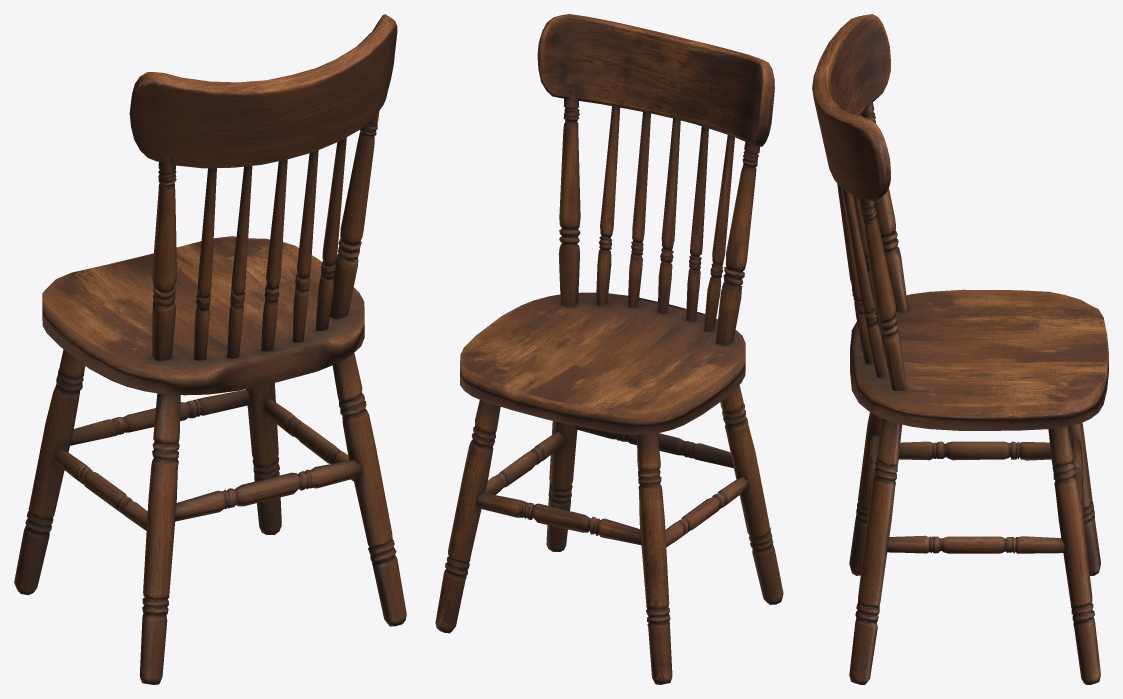
File: furniture-dining-chair.glb
3 renders of one model, left to right at view 1: azimuth 30°, elevation 25°; view 2: azimuth 150°, elevation 25°; view 3: azimuth 270°, elevation 25°, orthographic. The views are drawn at different scales.
Parts seen in each view (by area): view 1: tripo_node_cee32bd5-f05c-4bf8-a84e-17e49990cf35; view 2: tripo_node_cee32bd5-f05c-4bf8-a84e-17e49990cf35; view 3: tripo_node_cee32bd5-f05c-4bf8-a84e-17e49990cf35.
Boxes of the visible parts, <box> form: tripo_node_cee32bd5-f05c-4bf8-a84e-17e49990cf35: <box>14,14,406,684</box>; tripo_node_cee32bd5-f05c-4bf8-a84e-17e49990cf35: <box>435,14,783,684</box>; tripo_node_cee32bd5-f05c-4bf8-a84e-17e49990cf35: <box>812,14,1108,684</box>.
Bounding box in the file's own units: 0.44 × 0.96 × 0.46.
1 material, 1 textured.
